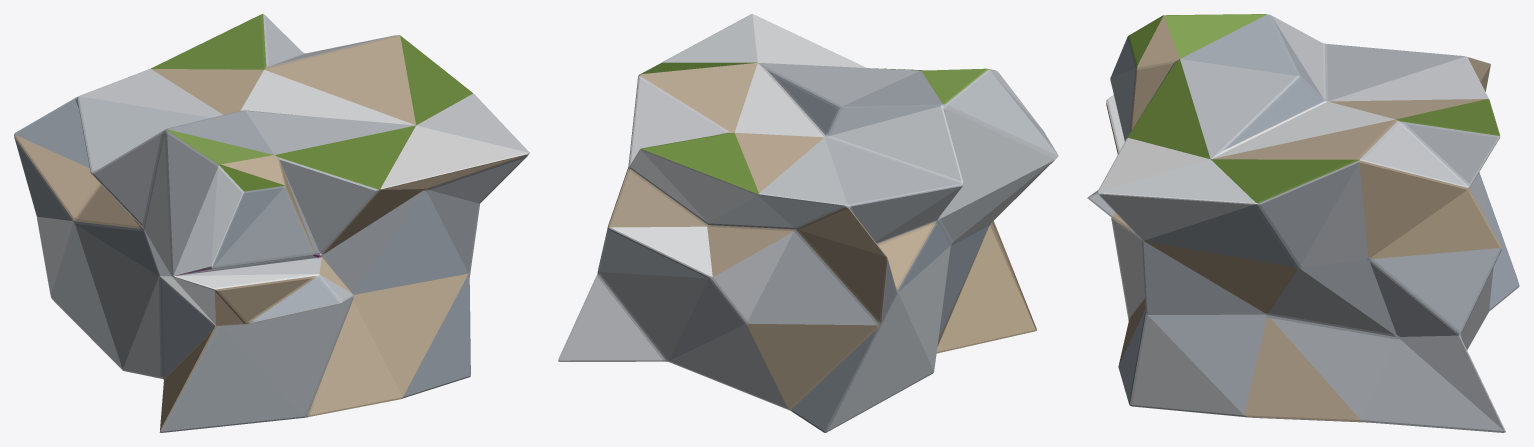
File: MineableSteel_a.fbx
The picture shows the model from 3 angles, left to right: view 1: azimuth 30°, elevation 25°; view 2: azimuth 150°, elevation 25°; view 3: azimuth 270°, elevation 25°; orthographic projection. The views are drawn at different scales.
Visible parts, largest first — view 1: MineableSteel_a; view 2: MineableSteel_a; view 3: MineableSteel_a.
Boxes of the visible parts, x1,y1,x2,y2 form: MineableSteel_a: (14,14,529,432); MineableSteel_a: (558,14,1058,432); MineableSteel_a: (1087,14,1519,432).
Size of what is drawn, in the model's own units: 0.7979 by 0.5493 by 0.7927.
